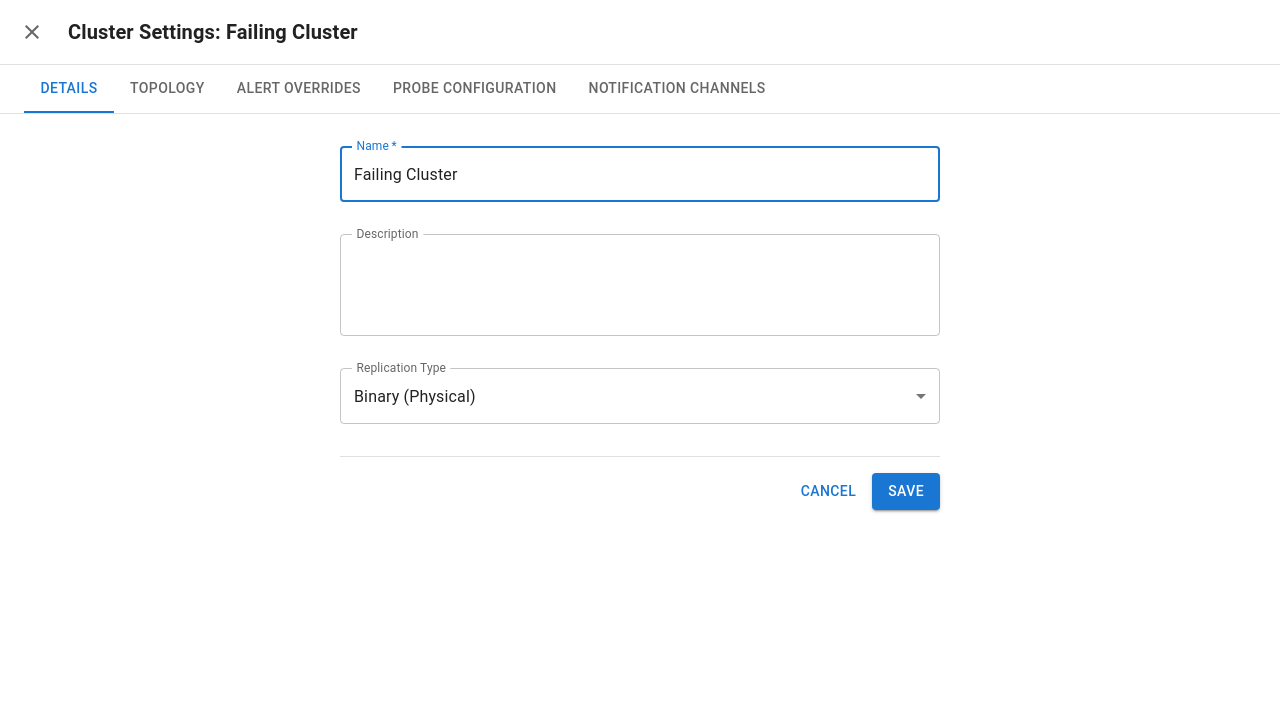
it: ClusterConfigDialog › save flow › surfaces an error message when save fails
Click the button "Save": click(906, 491) [872,473,940,510]
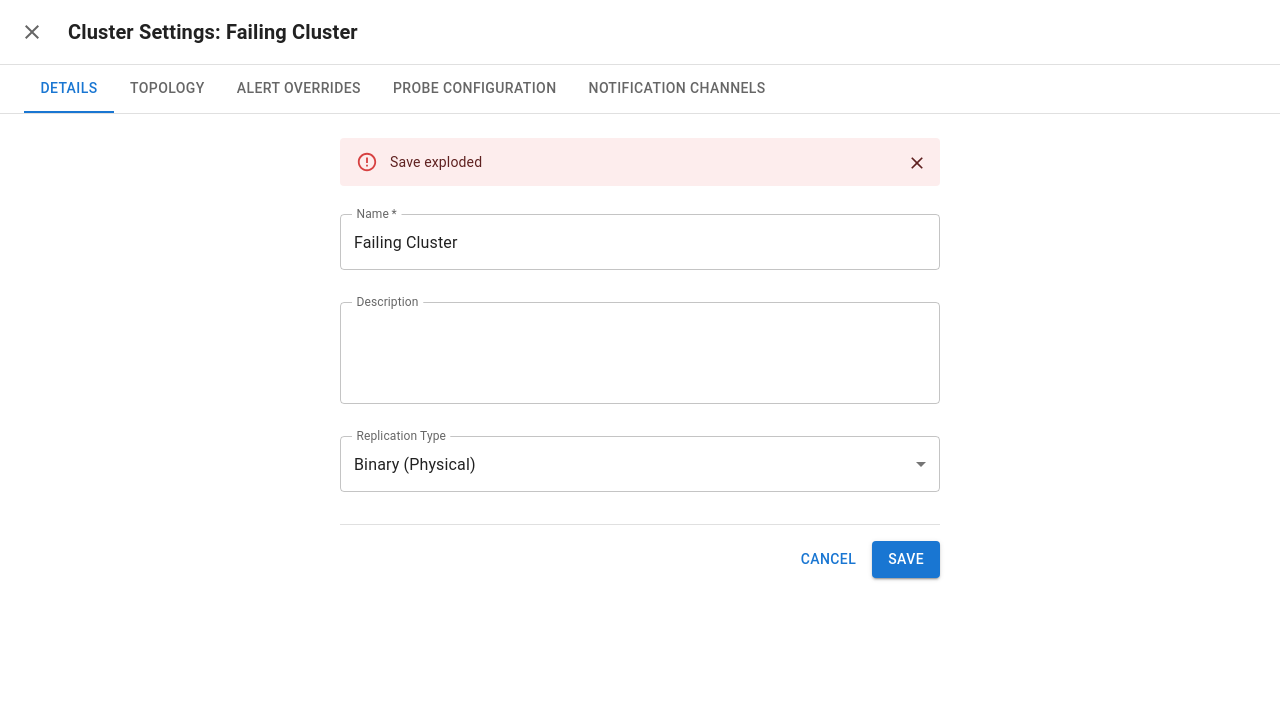
Check: the text "Save exploded" is shown, box [390,154,482,170]
